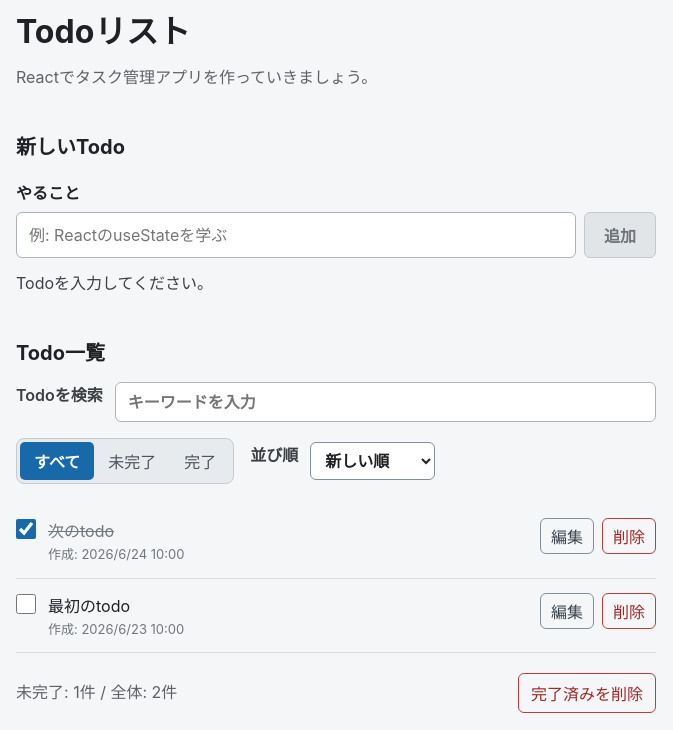
Test case: Home › 確認でOKを選んだら完了済みtodoを削除する
Click the button "完了済みを削除": [587, 693] box left=518, top=673, right=656, bottom=713
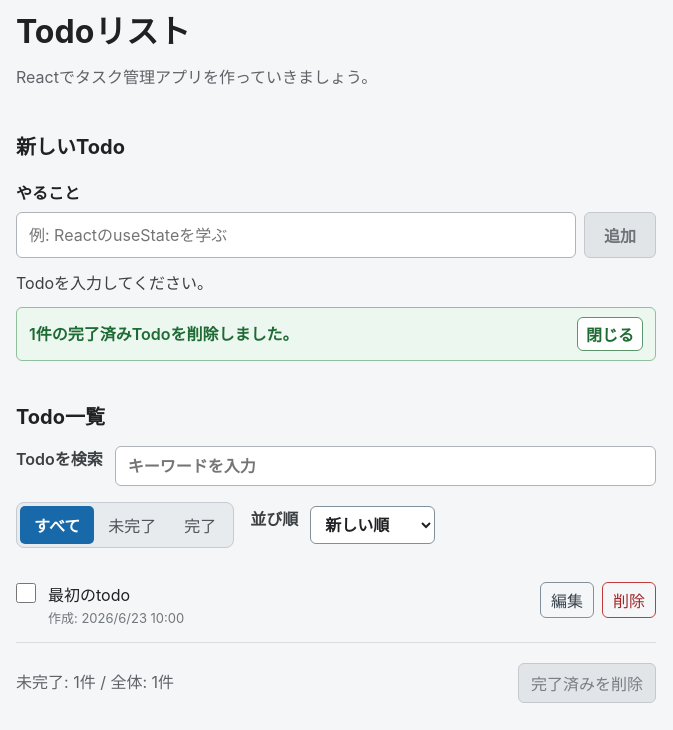
Expected: the message shows "1件の完了済みTodoを削除しました。", left=29, top=324, right=299, bottom=344
